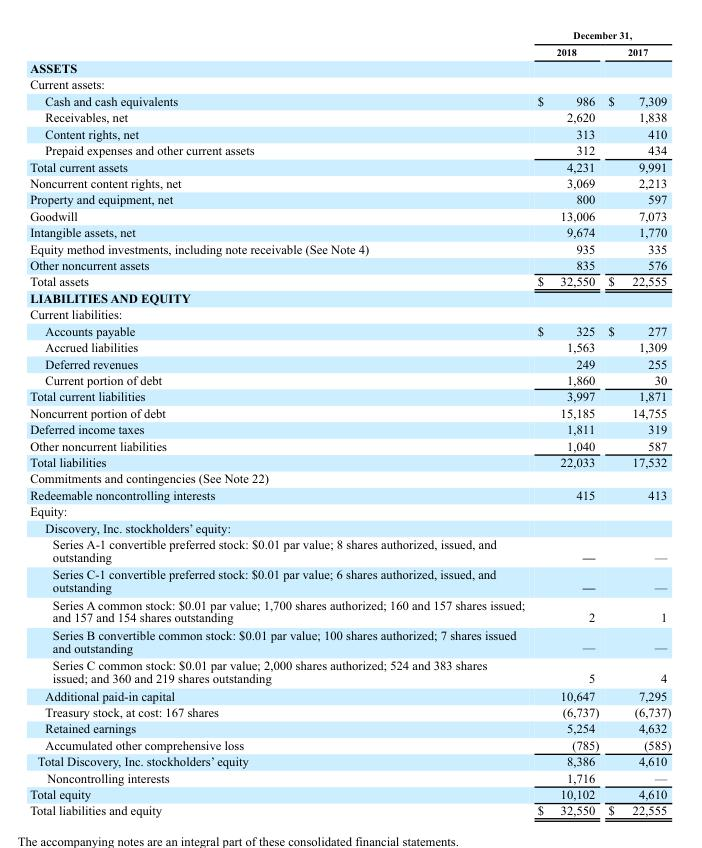table: (29, 29, 670, 817)
table column: (29, 29, 530, 817), (530, 29, 602, 817), (602, 29, 670, 817)
table column header: (29, 29, 670, 58)
table projected row header: (29, 58, 670, 75), (29, 75, 670, 92), (29, 305, 670, 322), (29, 469, 670, 486), (29, 502, 670, 519), (29, 289, 670, 305), (29, 519, 670, 535)
table row: (29, 625, 670, 656), (29, 535, 670, 565), (29, 565, 670, 595), (29, 595, 670, 625), (29, 656, 670, 686), (29, 58, 670, 75), (29, 75, 670, 92), (29, 108, 670, 125), (29, 141, 670, 158), (29, 190, 670, 207), (29, 223, 670, 240), (29, 272, 670, 289), (29, 305, 670, 322), (29, 338, 670, 355), (29, 387, 670, 404), (29, 420, 670, 437), (29, 469, 670, 486), (29, 502, 670, 519), (29, 686, 670, 703), (29, 719, 670, 736), (29, 752, 670, 769), (29, 785, 670, 802), (29, 92, 670, 108), (29, 125, 670, 141), (29, 158, 670, 174), (29, 174, 670, 190), (29, 207, 670, 223), (29, 240, 670, 256), (29, 256, 670, 272), (29, 289, 670, 305), (29, 322, 670, 338), (29, 355, 670, 371), (29, 371, 670, 387), (29, 404, 670, 420), (29, 437, 670, 453), (29, 453, 670, 469), (29, 486, 670, 502), (29, 519, 670, 535), (29, 703, 670, 719), (29, 736, 670, 752), (29, 769, 670, 785), (29, 43, 670, 58), (29, 802, 670, 817), (29, 29, 670, 43)
table spanning cell: (530, 29, 670, 43)
